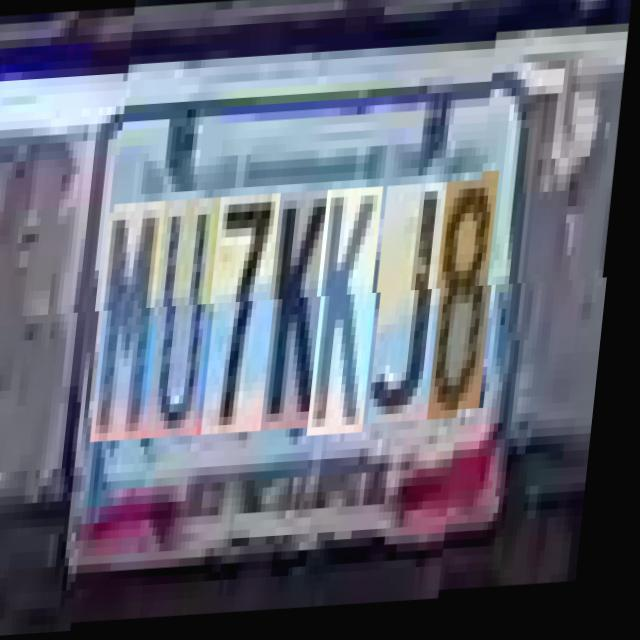7: (211, 198, 290, 438)
8: (437, 186, 507, 427)
J: (377, 189, 456, 430)
K: (316, 192, 392, 441), (270, 194, 346, 436)
M: (100, 203, 175, 444)
U: (155, 200, 230, 442)
